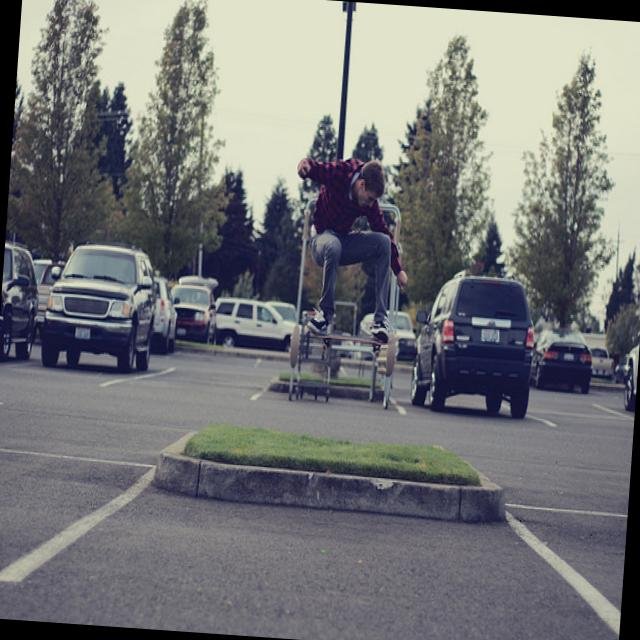Vehicle: (408, 264, 538, 420), (38, 240, 160, 376), (212, 296, 310, 354), (0, 238, 42, 361), (530, 327, 596, 394), (166, 281, 220, 346), (354, 308, 417, 362), (148, 272, 182, 359), (29, 258, 66, 322), (621, 306, 640, 411), (587, 346, 615, 380)
